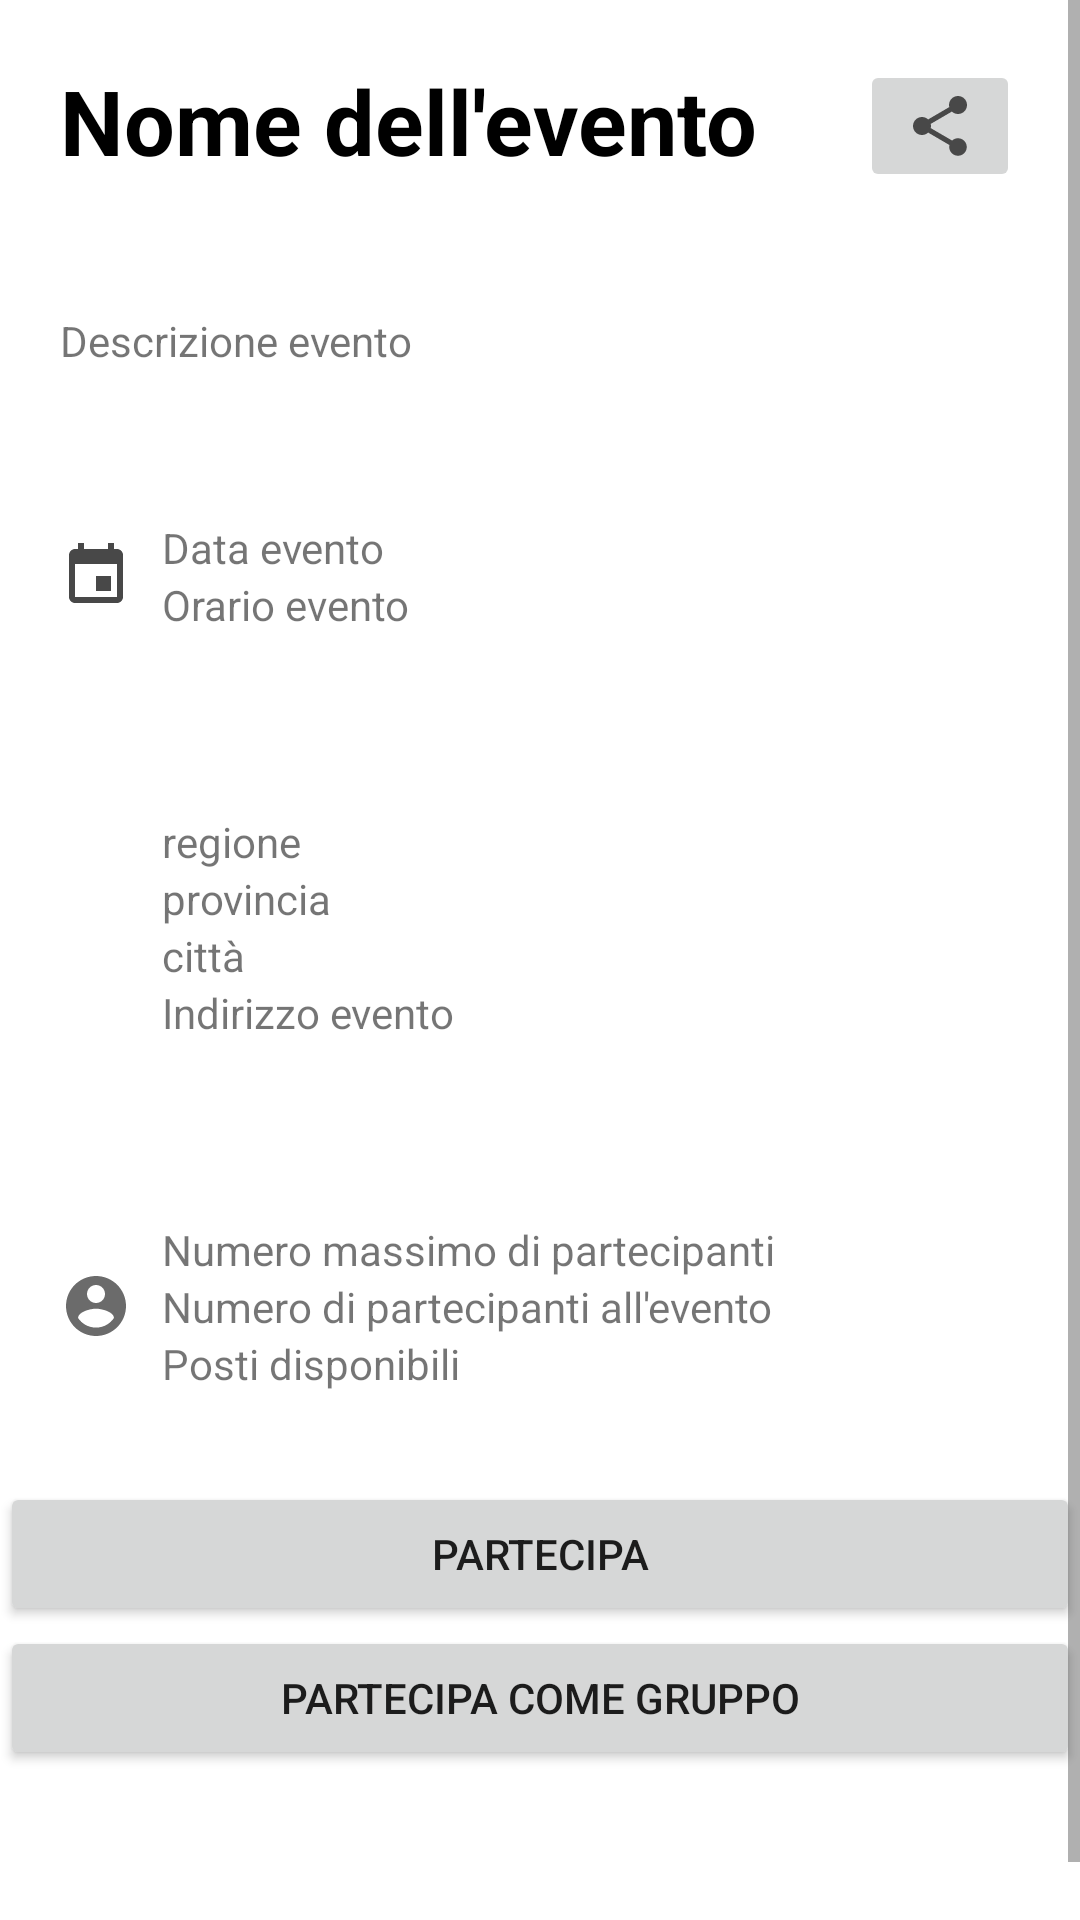

Where icons sit on this 1080 × 1920 app screen, as (x1, y1, x2, y2):
account circle: (66, 1276, 126, 1336)
share: (872, 78, 1008, 174)
